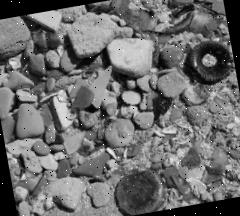glass: (110, 167, 168, 216), (183, 38, 236, 90), (192, 145, 236, 194), (66, 84, 98, 114)
